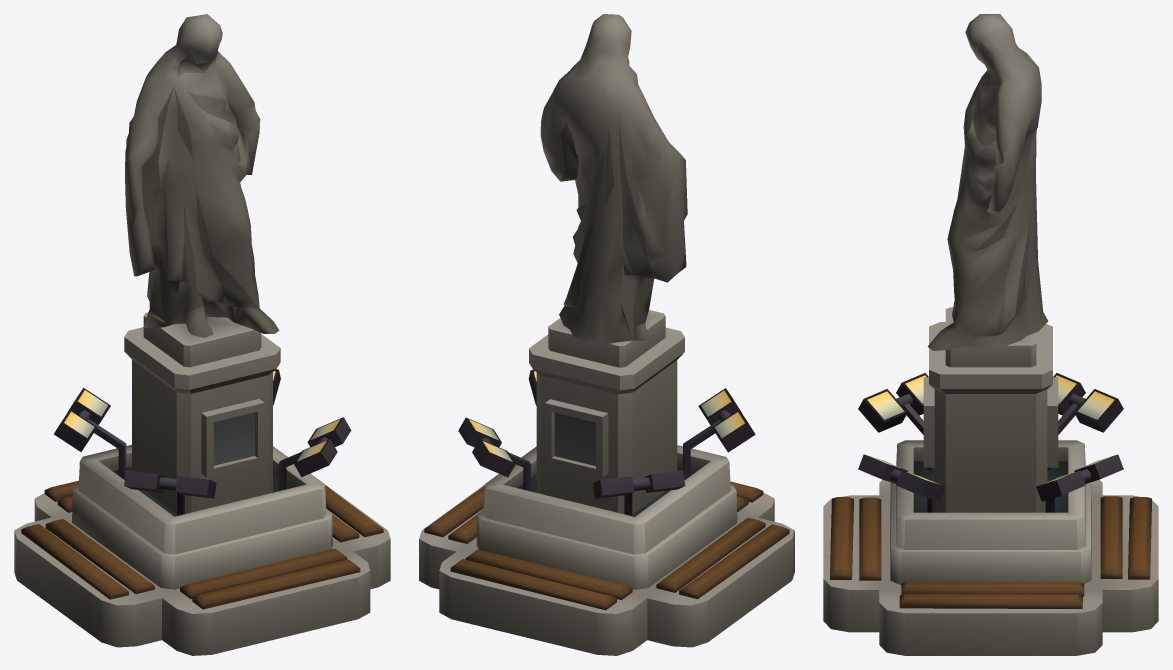
File: Bench_2F.fbx
3 views of the same model, side by side, from view 1: azimuth 30°, elevation 25°; view 2: azimuth 150°, elevation 25°; view 3: azimuth 270°, elevation 25° (orthographic).
Parts seen in each view (by area): view 1: Bench_2F_Statue, Bench_2F, Bench_2F_Lights; view 2: Bench_2F_Statue, Bench_2F, Bench_2F_Lights; view 3: Bench_2F, Bench_2F_Statue, Bench_2F_Lights.
Boxes of the visible parts, x1,y1,x2,y2 form: Bench_2F_Statue: (124,14,280,514); Bench_2F: (14,445,390,655); Bench_2F_Lights: (54,369,351,515); Bench_2F_Statue: (529,14,687,514); Bench_2F: (419,445,794,655); Bench_2F_Lights: (458,369,755,515); Bench_2F: (823,440,1158,655); Bench_2F_Statue: (923,14,1058,512); Bench_2F_Lights: (858,373,1123,512).
Size of the model in its own units: 5 by 9.37 by 5.
